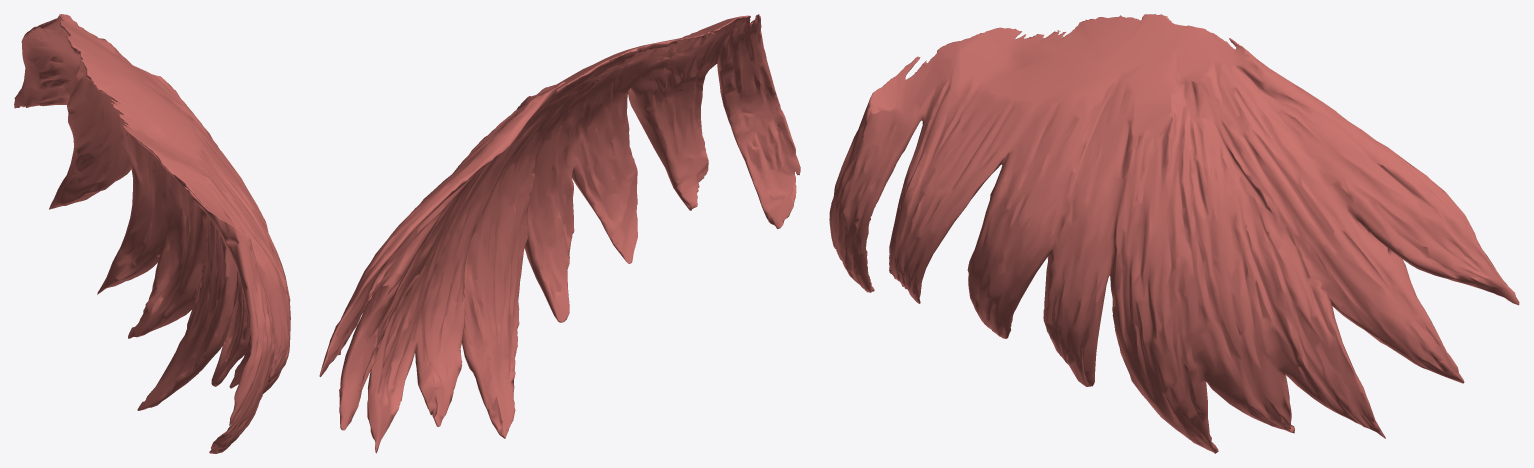
The picture shows the model from 3 angles, left to right: view 1: azimuth 30°, elevation 25°; view 2: azimuth 150°, elevation 25°; view 3: azimuth 270°, elevation 25°; orthographic projection. The views are drawn at different scales.
Parts seen in each view (by area): view 1: 左侧前锯肌; view 2: 左侧前锯肌; view 3: 左侧前锯肌.
Part boxes in pixels (x1,y1,x2,y2): 左侧前锯肌: (14, 14, 290, 453); 左侧前锯肌: (319, 14, 800, 453); 左侧前锯肌: (829, 14, 1519, 453).
Size of the model in its own units: 0.1275 by 0.2536 by 0.4047.
